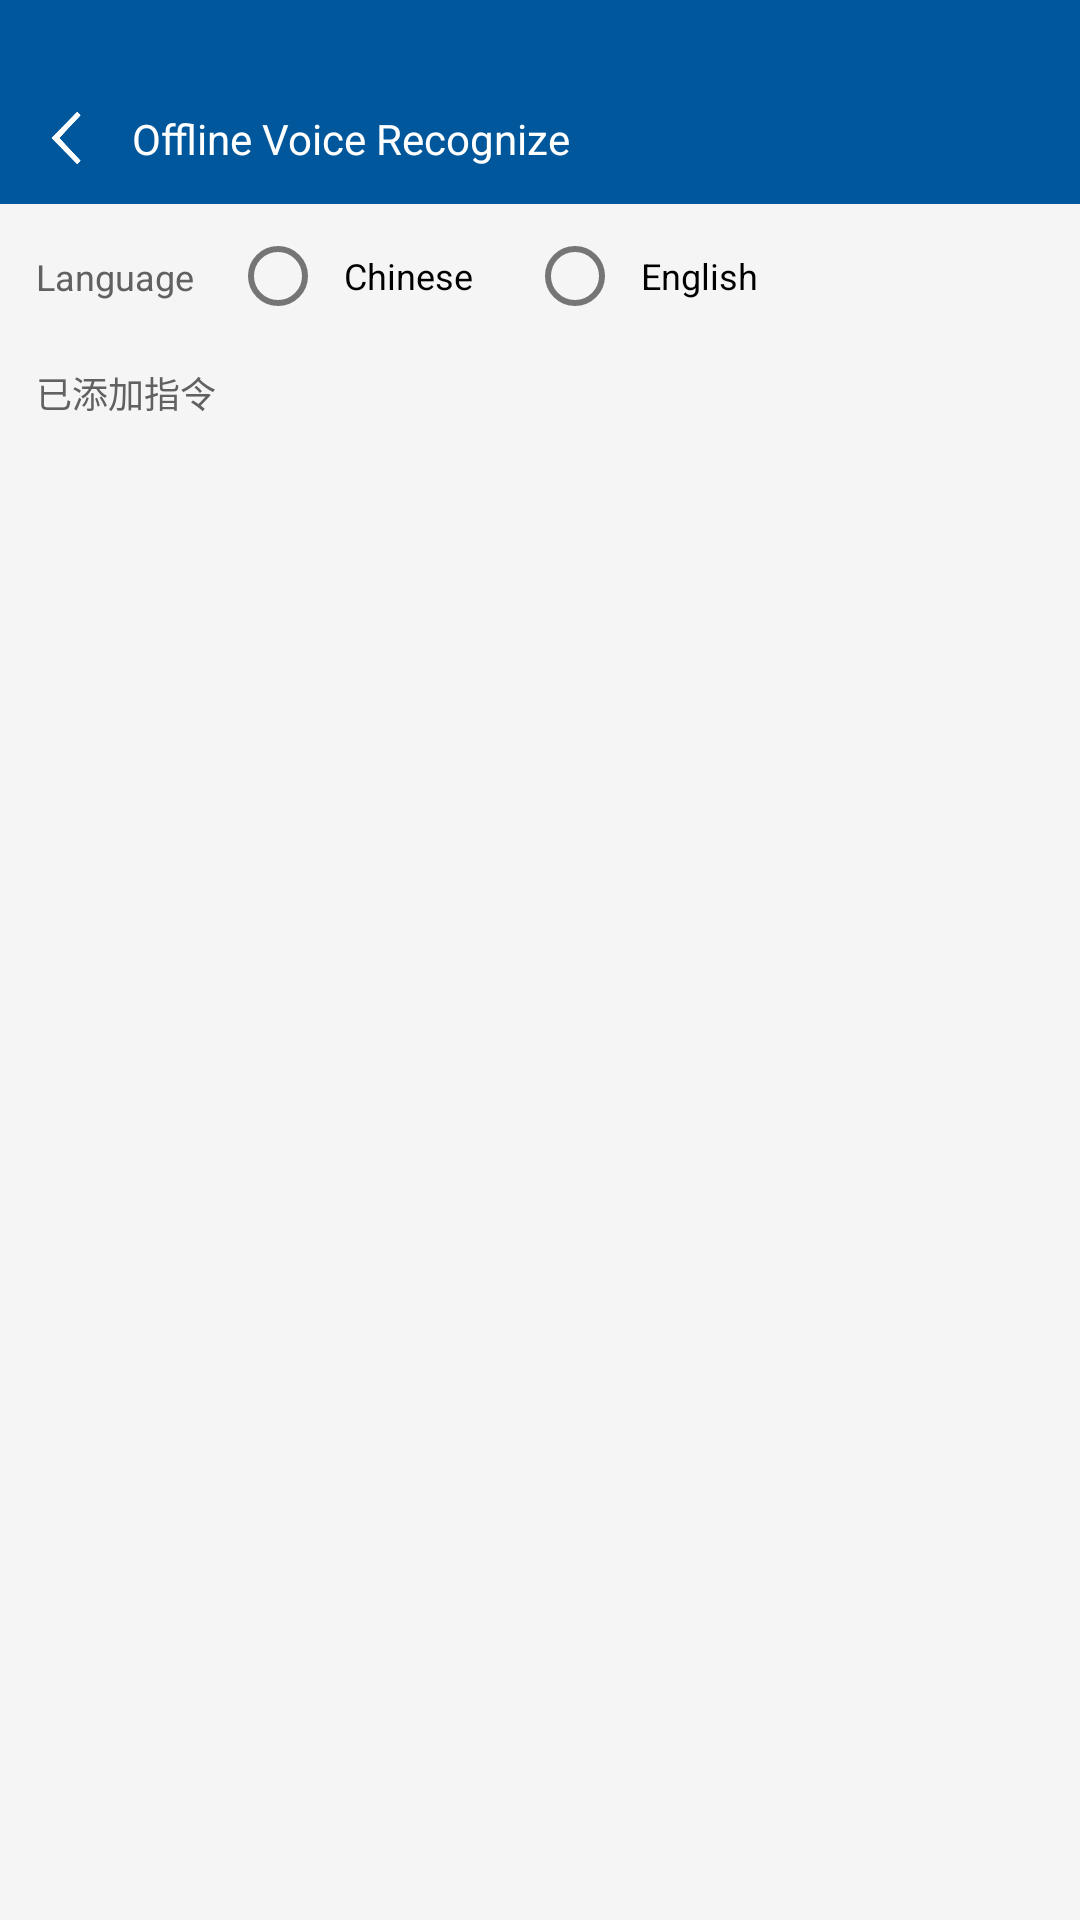

Icon click points for this 1080x1920 phone screenshot, format (x,y):
back: (66,138)
